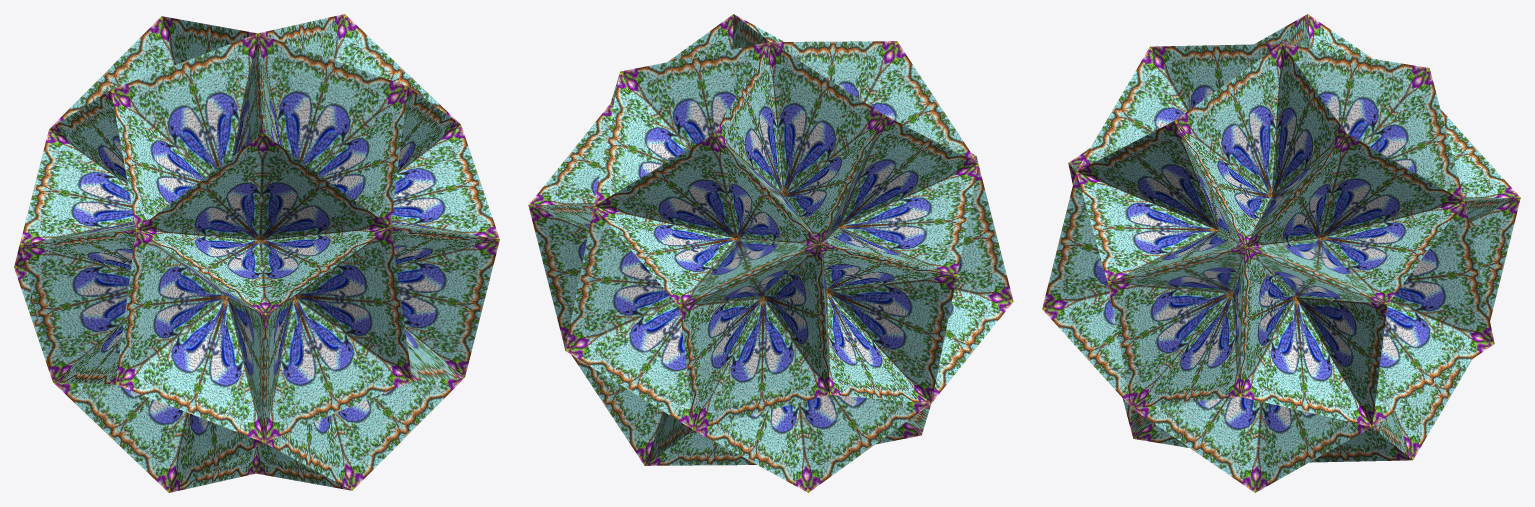
Rendered from Mobius120b_3.obj.
3 views of the same model, side by side, from view 1: azimuth 30°, elevation 25°; view 2: azimuth 150°, elevation 25°; view 3: azimuth 270°, elevation 25° (orthographic). The views are drawn at different scales.
Size of the model in its own units: 3.09 by 3.02 by 3.11.
1 material, 1 textured.
